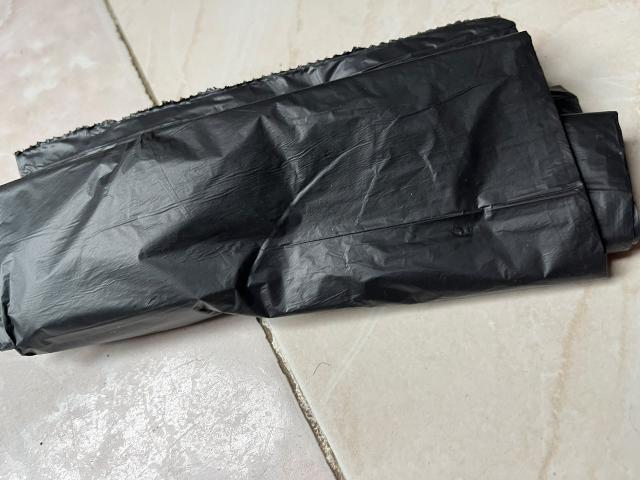LDPE: (0, 5, 640, 369)
